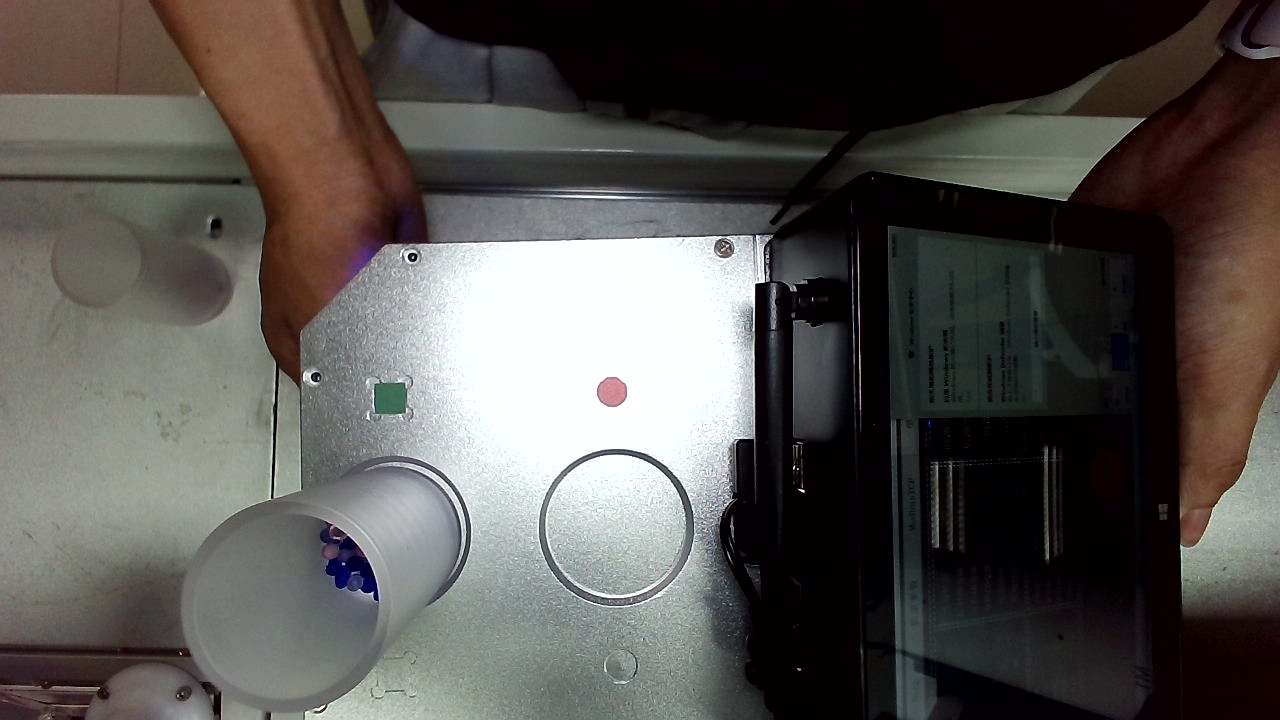bad: (254, 611, 307, 655), (259, 16, 305, 60), (782, 16, 825, 63), (817, 460, 858, 508), (583, 297, 628, 340), (675, 608, 716, 651), (497, 630, 537, 674), (734, 344, 775, 385), (807, 412, 849, 452), (792, 74, 828, 119), (519, 246, 559, 285), (345, 1, 384, 40), (842, 514, 880, 554), (836, 49, 876, 86), (269, 205, 313, 238), (260, 168, 299, 205), (258, 288, 295, 326), (769, 201, 808, 237), (436, 43, 472, 78), (832, 194, 872, 224), (531, 424, 566, 457), (806, 52, 840, 85), (260, 334, 295, 364)
defact: (681, 145, 715, 182)
pass: (567, 147, 615, 197), (551, 391, 596, 443), (261, 526, 304, 569), (818, 545, 863, 585), (263, 408, 306, 449), (287, 568, 330, 609), (515, 391, 554, 435), (389, 482, 430, 523), (716, 573, 754, 616), (695, 443, 731, 486), (687, 100, 726, 139), (566, 609, 604, 649), (853, 556, 895, 592), (782, 233, 824, 266), (678, 42, 710, 82)
toolong: (610, 416, 655, 488), (343, 39, 381, 103), (843, 230, 877, 293)
unpass: (830, 4, 874, 53), (566, 540, 610, 583), (408, 273, 448, 319), (640, 13, 677, 57), (763, 407, 804, 446), (800, 202, 839, 242), (277, 364, 319, 401), (308, 6, 346, 46), (403, 55, 440, 95), (822, 159, 864, 194), (685, 568, 721, 607), (712, 164, 748, 203), (690, 9, 727, 46), (690, 282, 728, 318), (845, 323, 883, 358), (852, 443, 888, 479), (845, 382, 881, 418), (688, 248, 721, 286), (827, 350, 861, 384), (717, 237, 753, 268), (777, 54, 808, 88)
